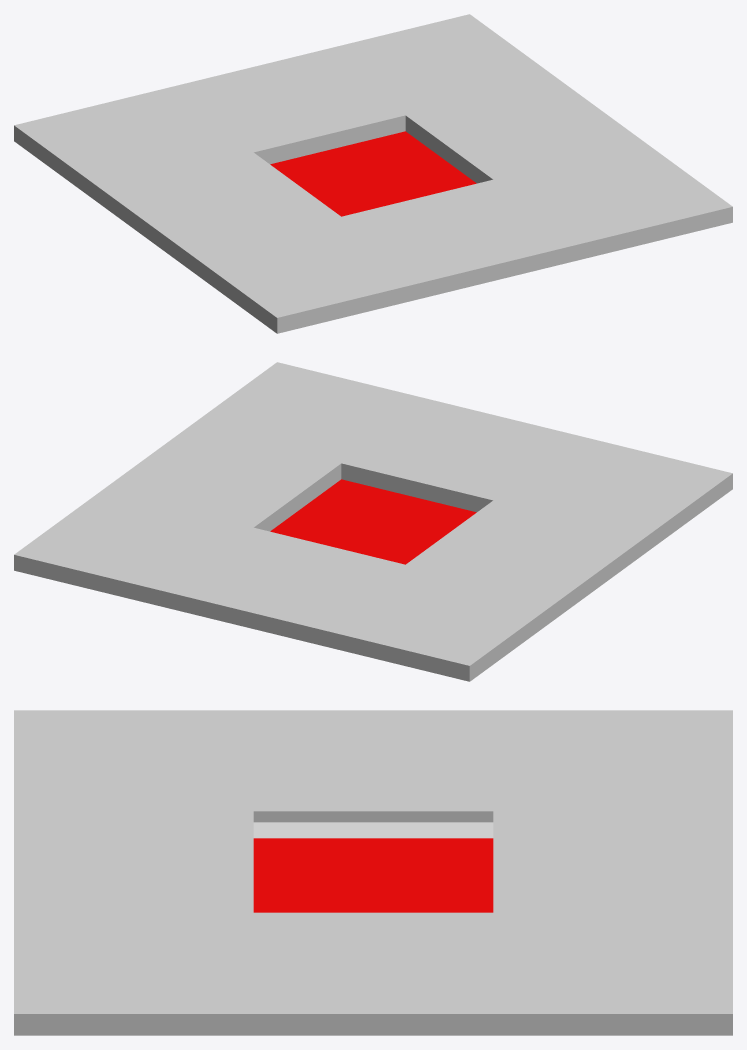
The picture shows the model from 3 angles, top to bottom: view 1: azimuth 30°, elevation 25°; view 2: azimuth 150°, elevation 25°; view 3: azimuth 270°, elevation 25°; orthographic projection. The views are drawn at different scales.
Visible parts, largest first — view 1: Cube__1_, Cube__2_, Cube__4_, Cube__3_, Cube; view 2: Cube__2_, Cube__1_, Cube__3_, Cube__4_, Cube; view 3: Cube__1_, Cube__2_, Cube__4_, Cube__3_, Cube, sloop.
Boxes of the visible parts, x1,y1,x2,y2 form: Cube__1_: (318,14,732,259); Cube__2_: (14,88,428,333); Cube__4_: (14,15,555,195); Cube__3_: (190,179,732,332); Cube: (270,131,476,216); Cube__2_: (318,436,732,681); Cube__1_: (14,362,428,607); Cube__3_: (191,362,732,552); Cube__4_: (14,527,556,681); Cube: (270,479,476,564); Cube__1_: (14,912,732,1035); Cube__2_: (14,710,732,822); Cube__4_: (493,710,732,1035); Cube__3_: (14,710,253,1035); Cube: (253,838,493,912); sloop: (253,822,493,838).
Size of the model in its own units: 3000 by 200 by 3000.
